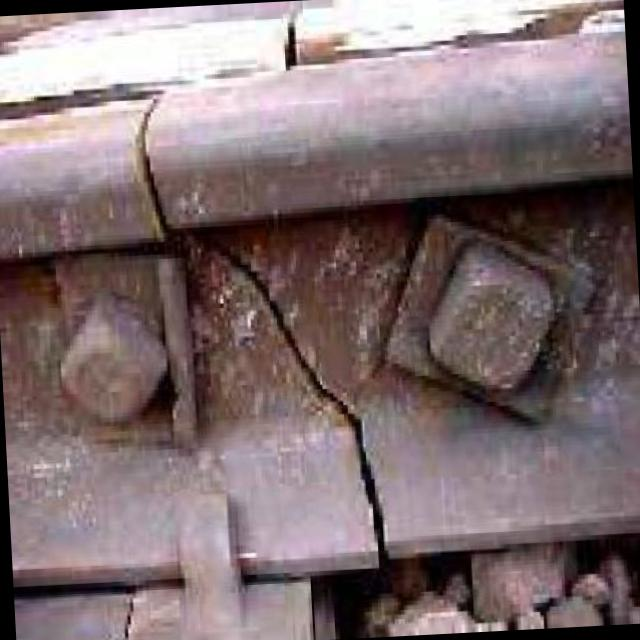defective: (61, 12, 455, 640)
